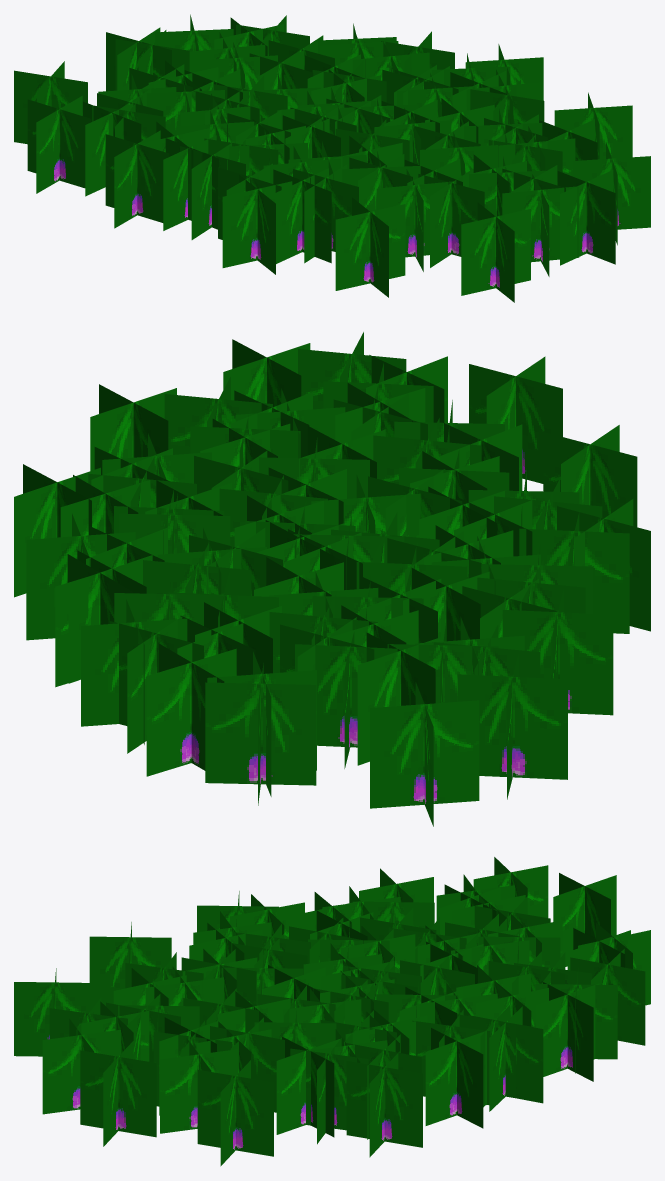
Rendered from HTOWN01_TULIPPURP01.obj.
3 views of the same model, one above another, from view 1: azimuth 30°, elevation 25°; view 2: azimuth 150°, elevation 25°; view 3: azimuth 270°, elevation 25° (orthographic). The views are drawn at different scales.
Parts seen in each view (by area): view 1: TulipPurp01; view 2: TulipPurp01; view 3: TulipPurp01.
Boxes of the visible parts, x1=… form: TulipPurp01: x1=14, y1=14, x2=650, y2=302; TulipPurp01: x1=14, y1=332, x2=650, y2=826; TulipPurp01: x1=14, y1=857, x2=650, y2=1166.
Size of the model in its own units: 340 by 50 by 388.
